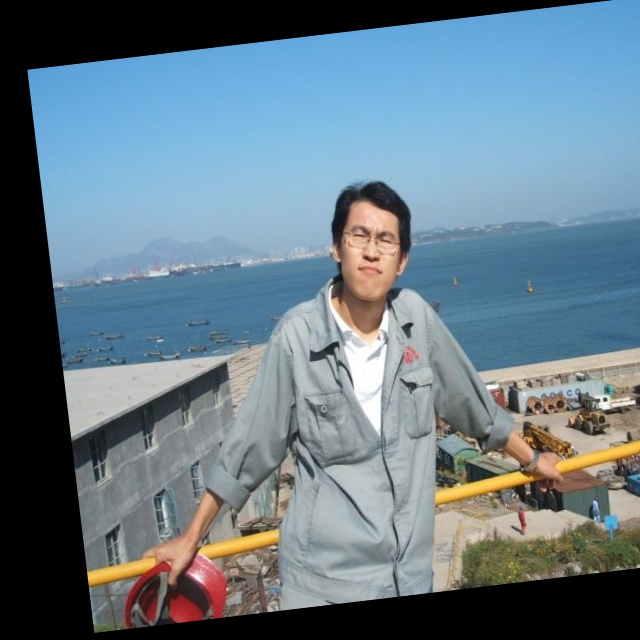Sin_Casco_Mascarrilla: (325, 177, 420, 298)
Sin_Chaleco: (269, 285, 455, 509)
